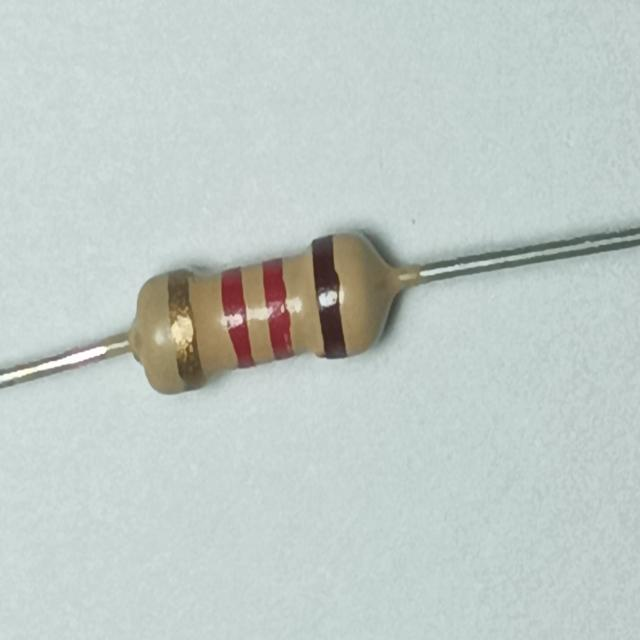1.2k ohms: (130, 210, 404, 400)
